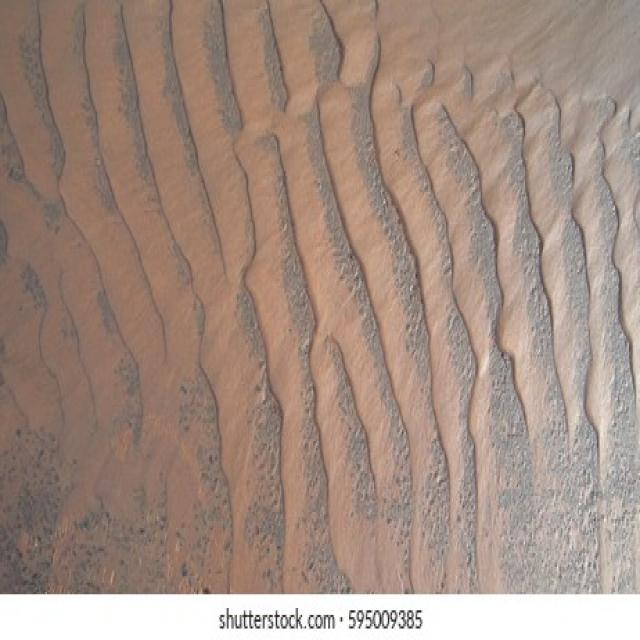Alluvial Soil: (43, 41, 586, 530)
